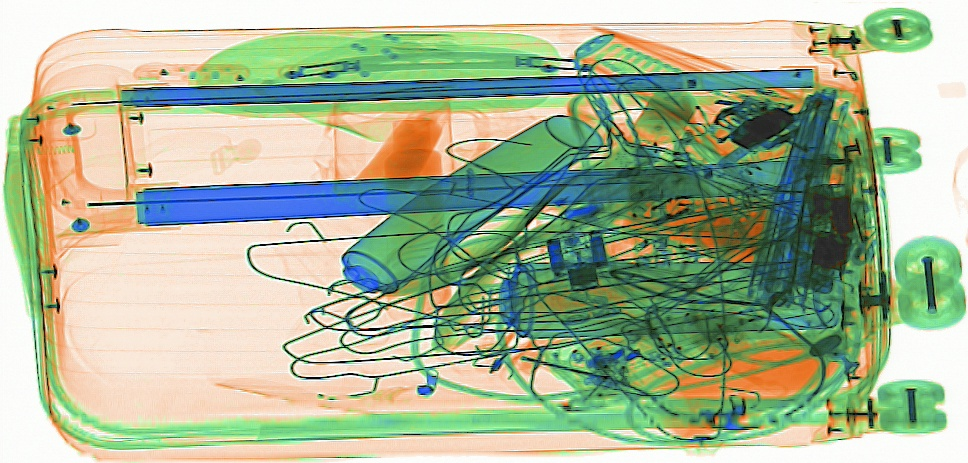pressure: (340, 112, 605, 298), (497, 256, 845, 342)
